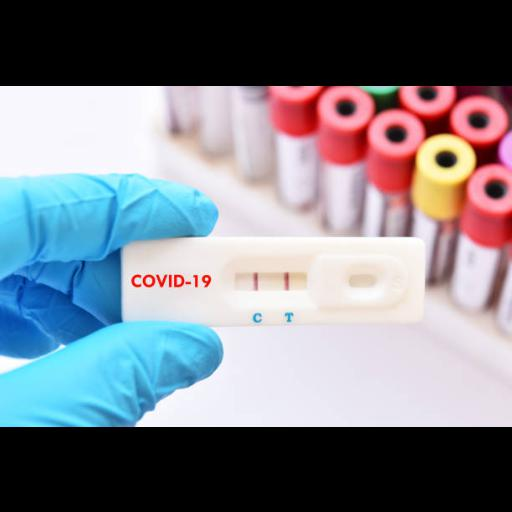Pos: (124, 238, 422, 320)
